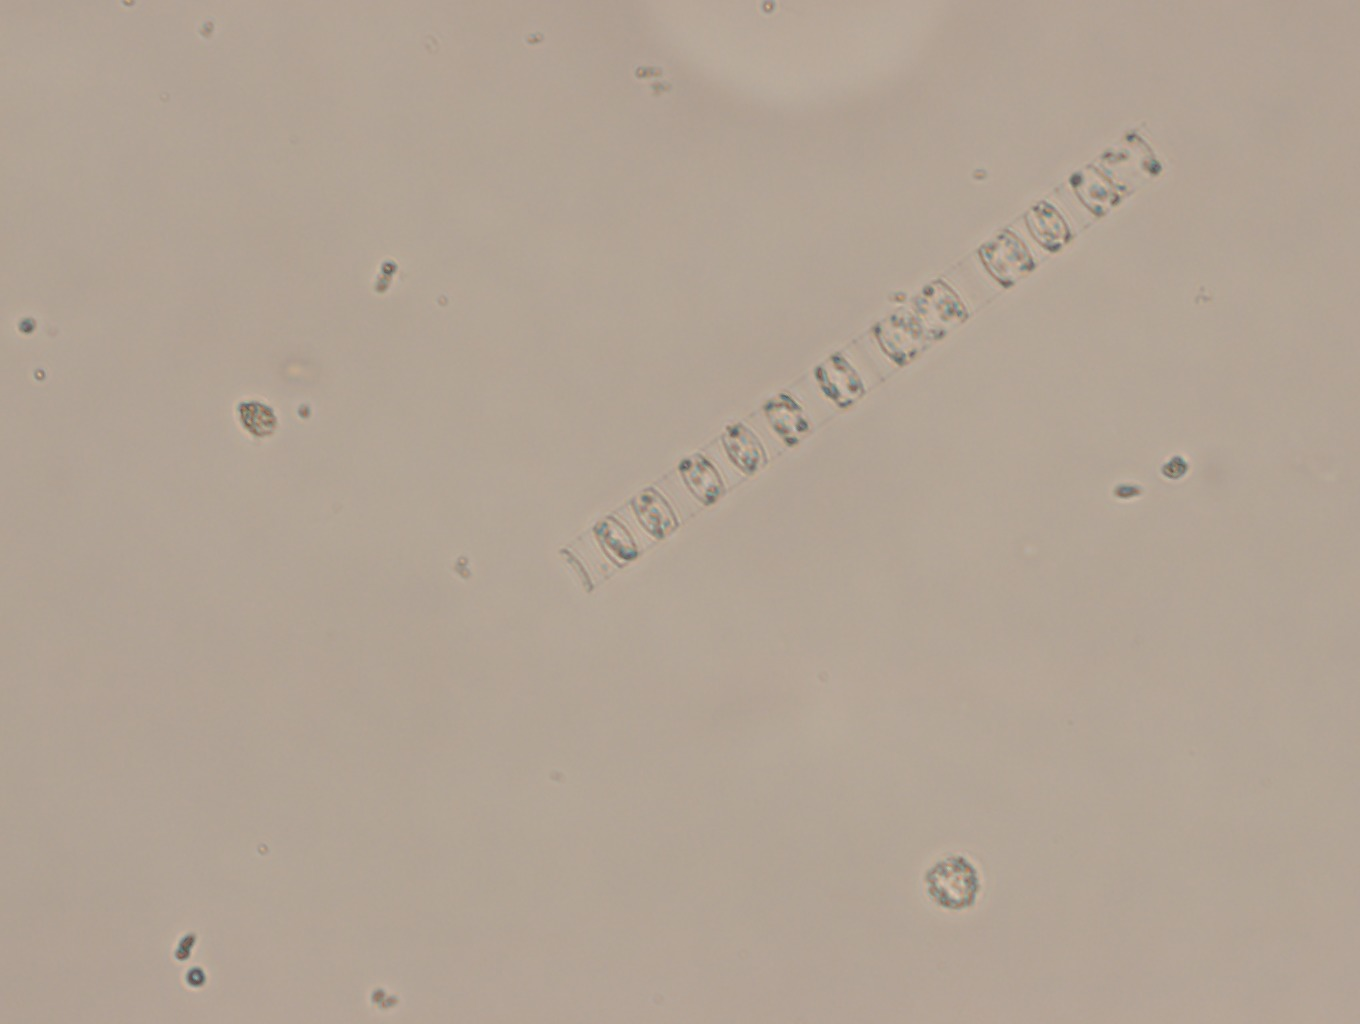skeletonema: (560, 120, 1168, 594)
